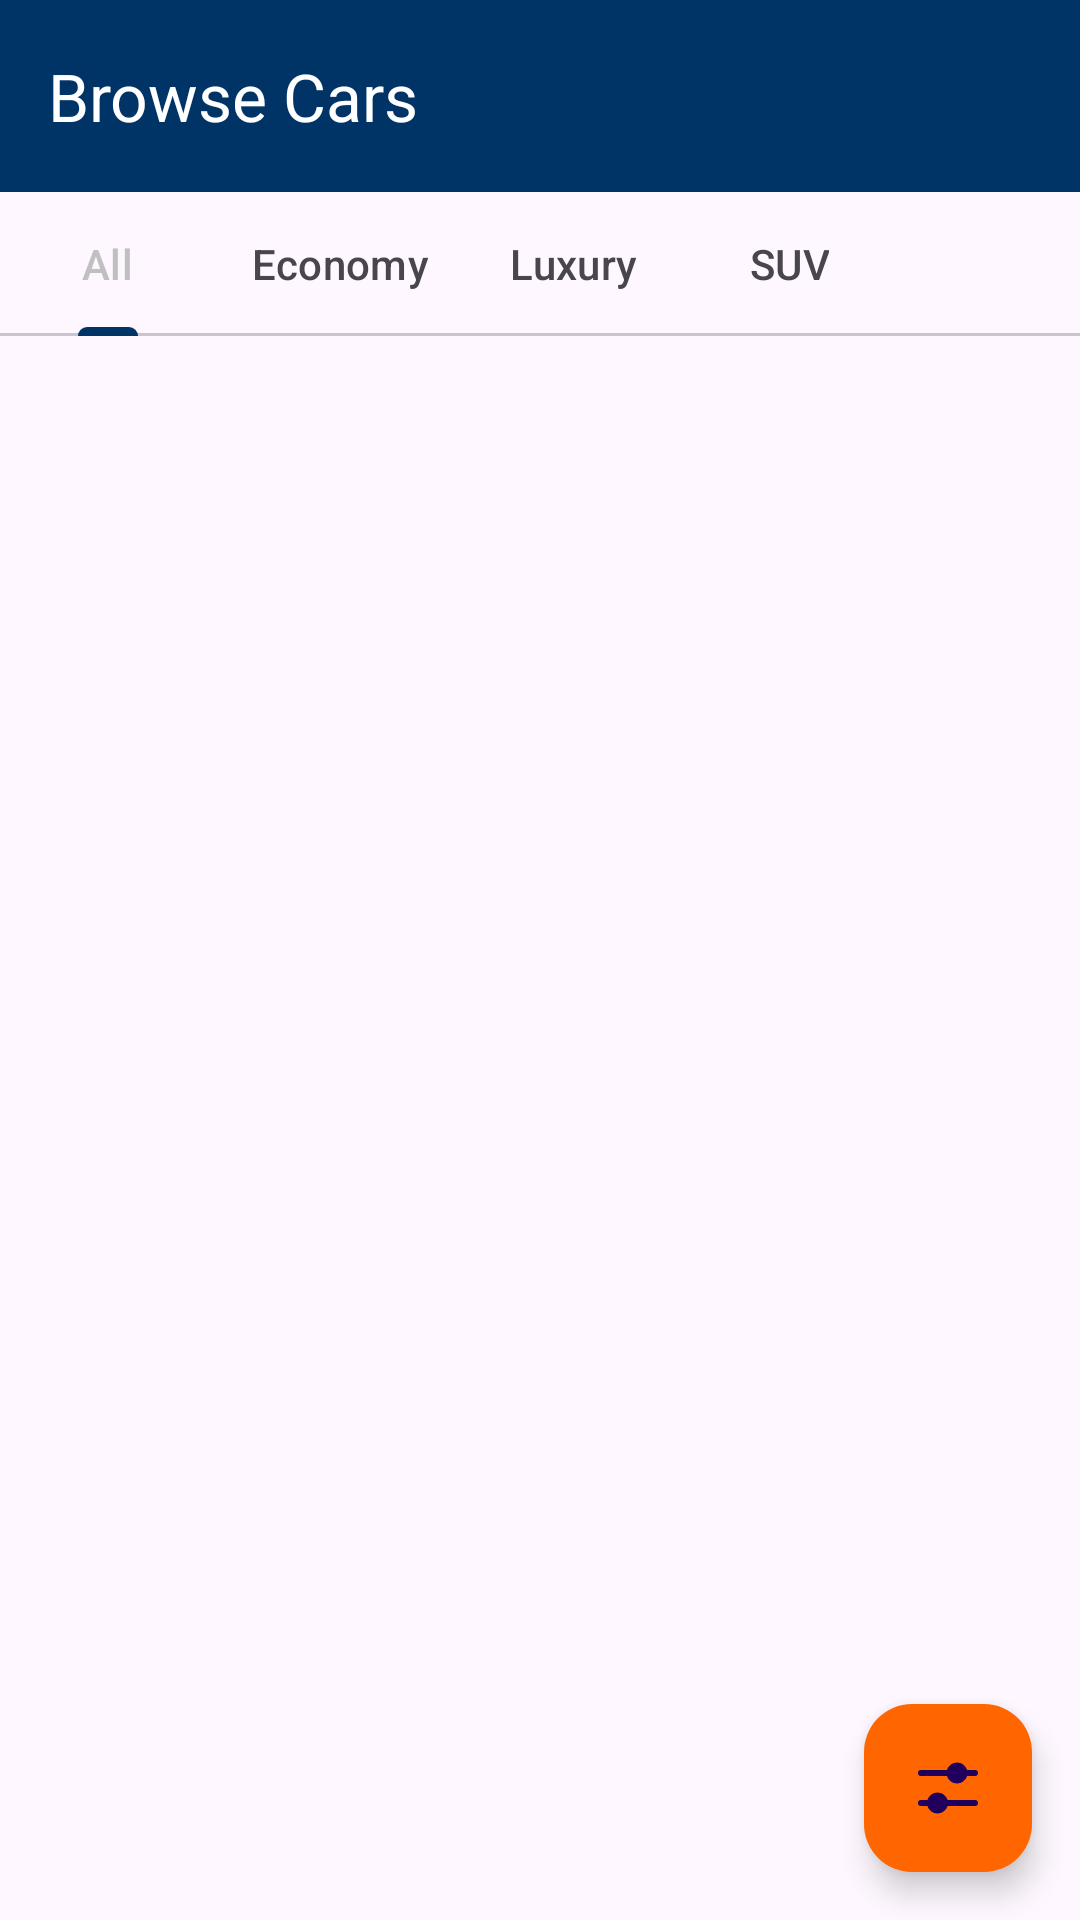

Named icons in this screenshot (1080px x 1920px) and their centers, [x,y]:
filter: [948,1788]
